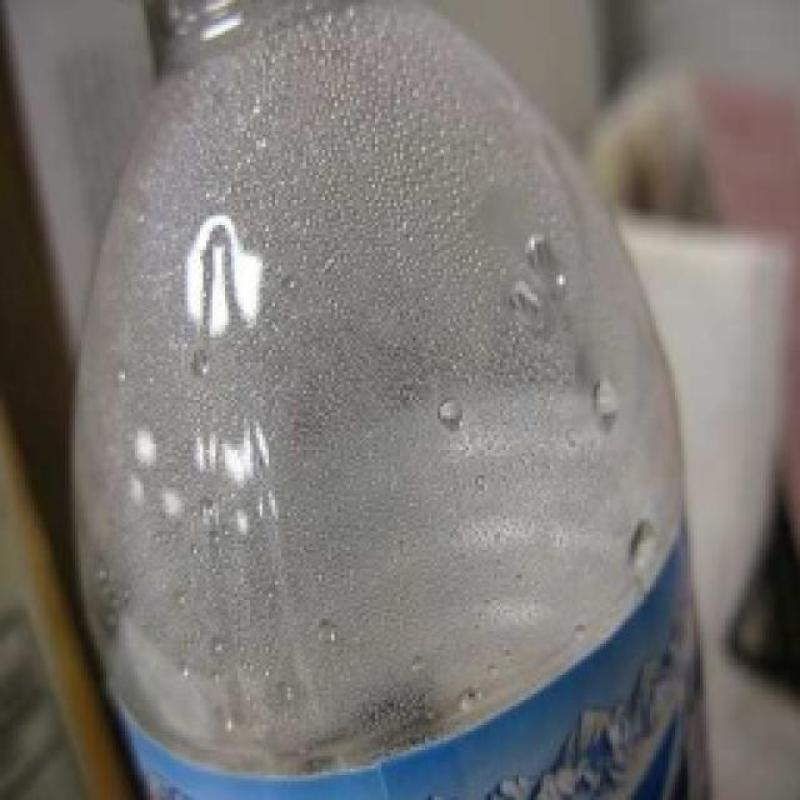botella: (65, 0, 713, 800)
